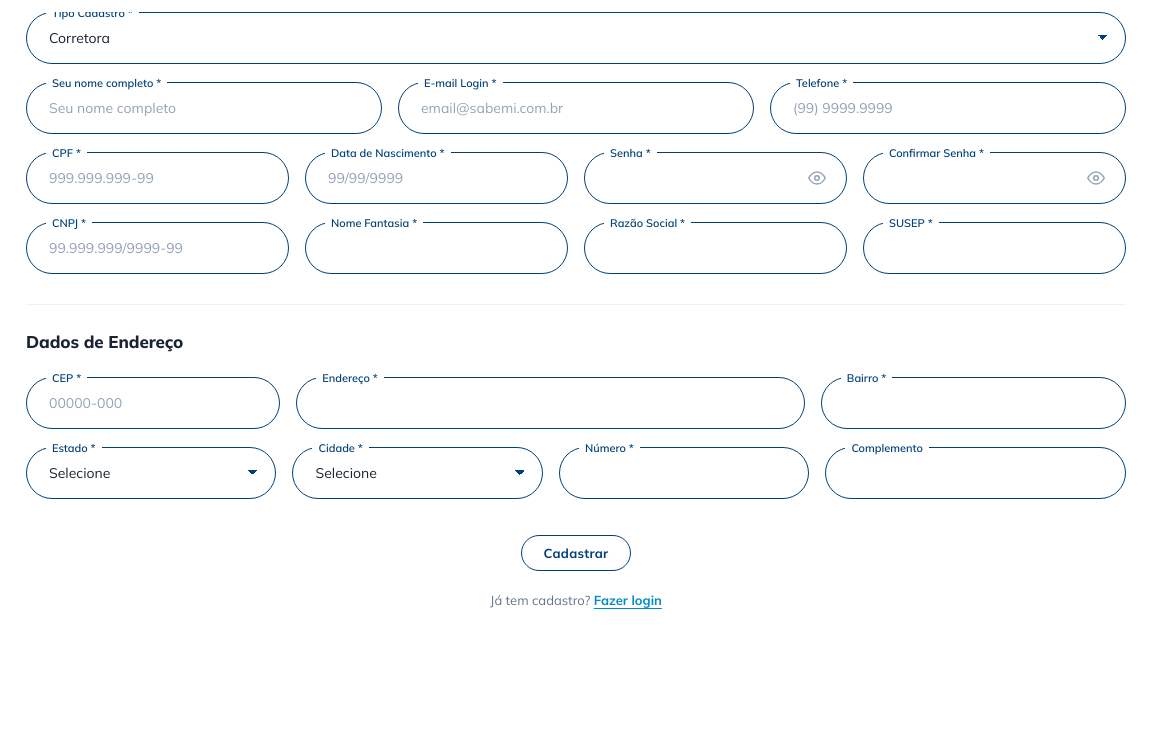
CadastroForm › shows validation errors on empty submit
Click the button "Cadastrar". click: click(576, 552)
box: [521,534,631,570]
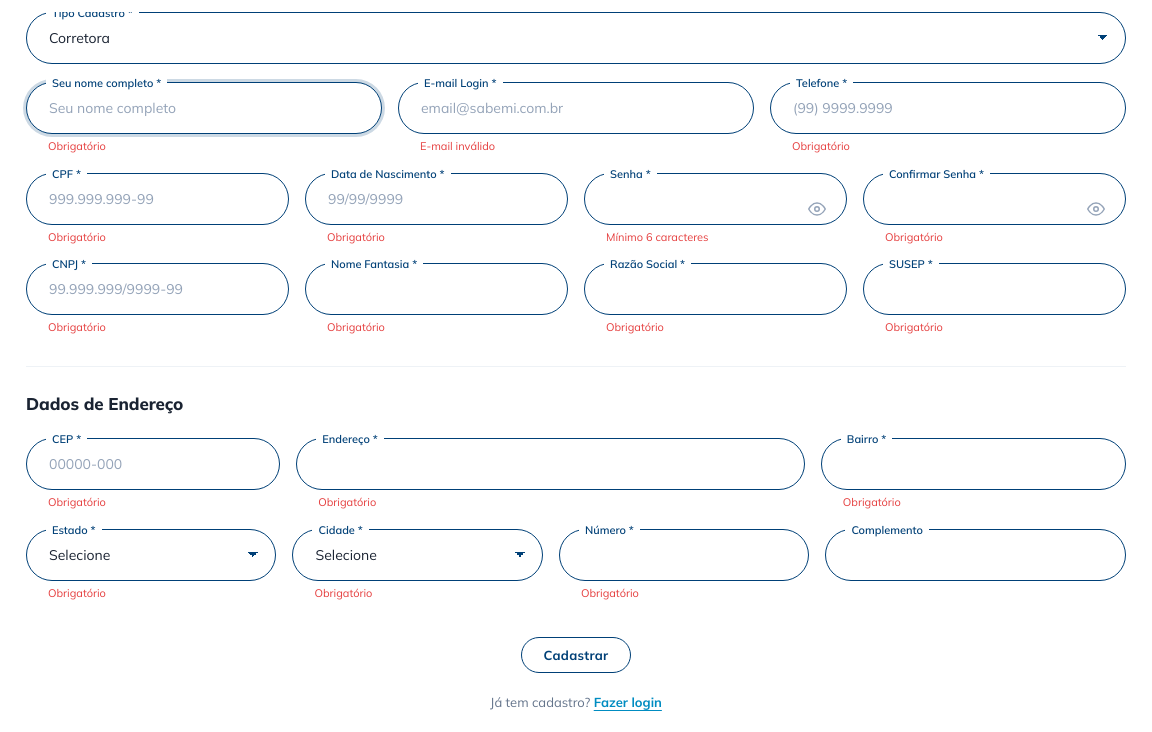
Expected: the text "Obrigatório" below "Seu nome completo *" is shown, [48,139,106,153]
